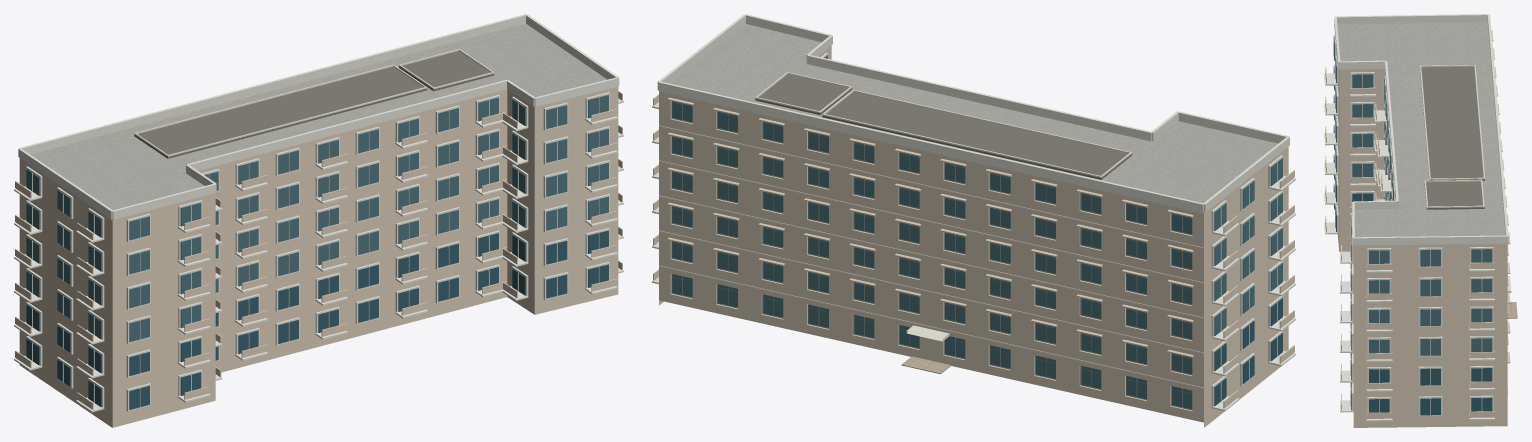
Rendered from chunk-dorm-way-760176671.glb.
The picture shows the model from 3 angles, left to right: view 1: azimuth 30°, elevation 25°; view 2: azimuth 150°, elevation 25°; view 3: azimuth 270°, elevation 25°; orthographic projection. The views are drawn at different scales.
Visible parts, largest first — view 1: chunk-dorm-way-760176671; view 2: chunk-dorm-way-760176671; view 3: chunk-dorm-way-760176671.
Boxes of the visible parts, x1,y1,x2,y2 form: chunk-dorm-way-760176671: (14, 14, 623, 427); chunk-dorm-way-760176671: (652, 14, 1295, 427); chunk-dorm-way-760176671: (1324, 14, 1517, 427).
Size of the model in its own units: 55.78 by 21.1 by 19.46.
Materials: 10 (2 with a texture image).
